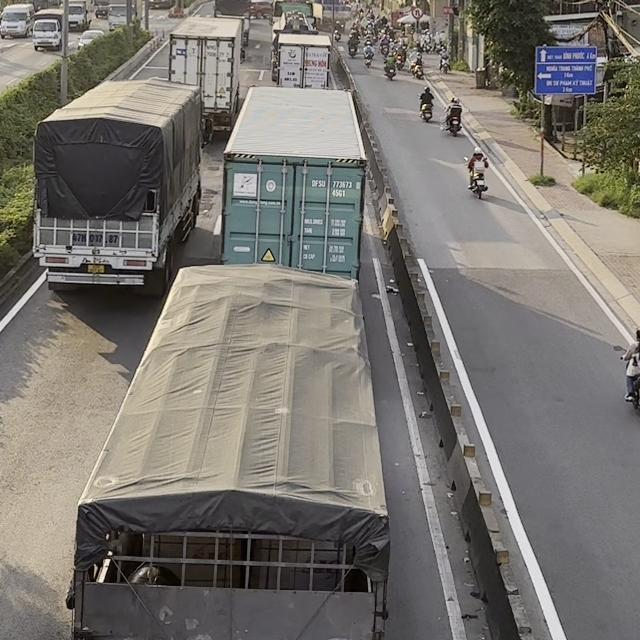car: (0, 3, 34, 38)
motorcycle: (463, 156, 488, 199), (442, 106, 462, 136), (418, 93, 433, 122), (383, 57, 397, 80), (412, 63, 424, 79), (393, 53, 403, 70), (347, 43, 358, 57), (408, 59, 417, 75)
truck: (65, 262, 391, 639), (31, 76, 203, 297), (219, 85, 367, 282), (167, 15, 244, 143), (271, 0, 320, 82), (277, 32, 332, 88), (30, 8, 63, 51)
